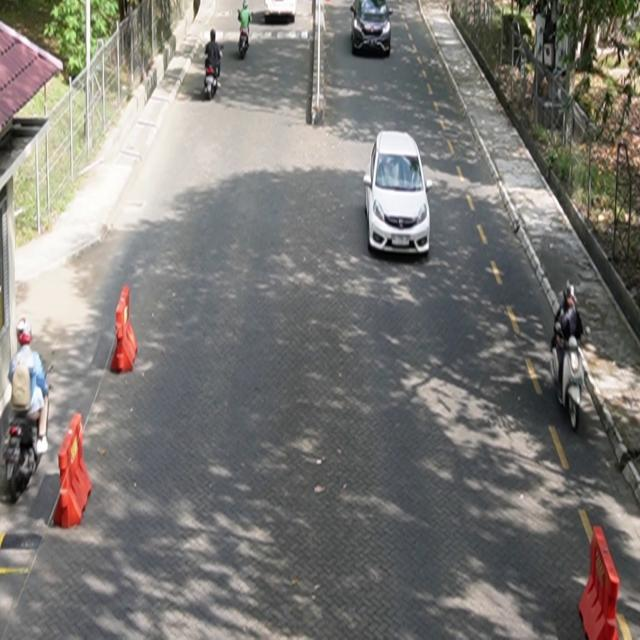car: (364, 130, 433, 257), (350, 1, 393, 57)
